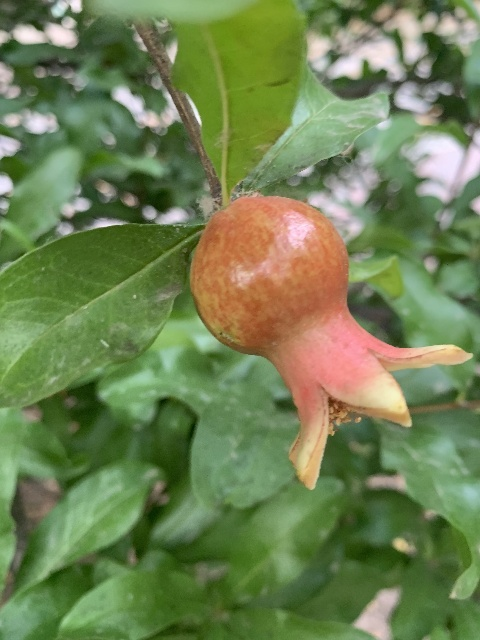early-fruit: (189, 196, 470, 490)
